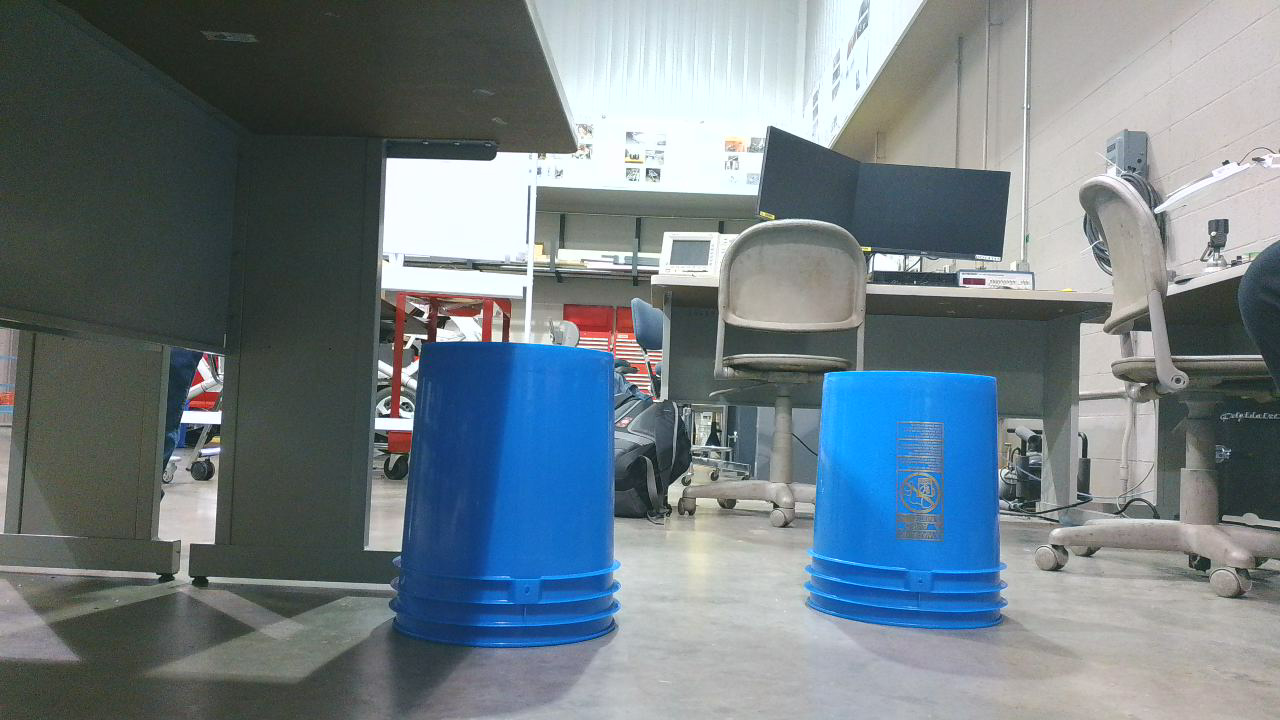blue_bucket: (387, 341, 630, 658), (809, 371, 1018, 638)
